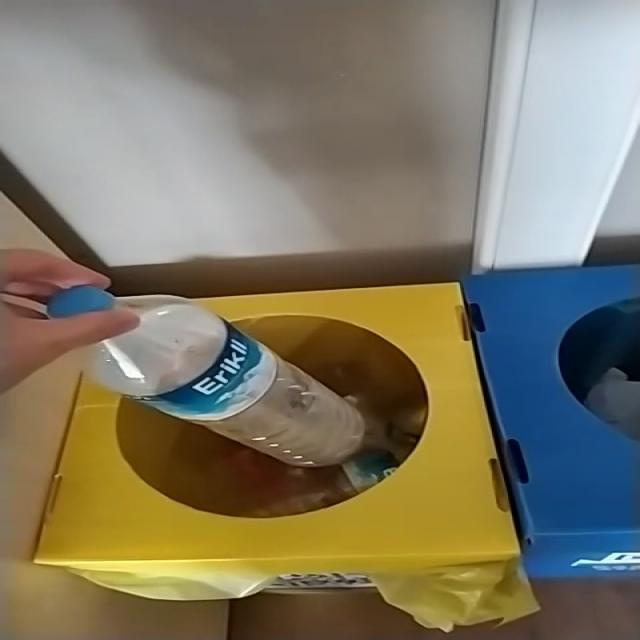Plastic: (47, 285, 363, 466)
